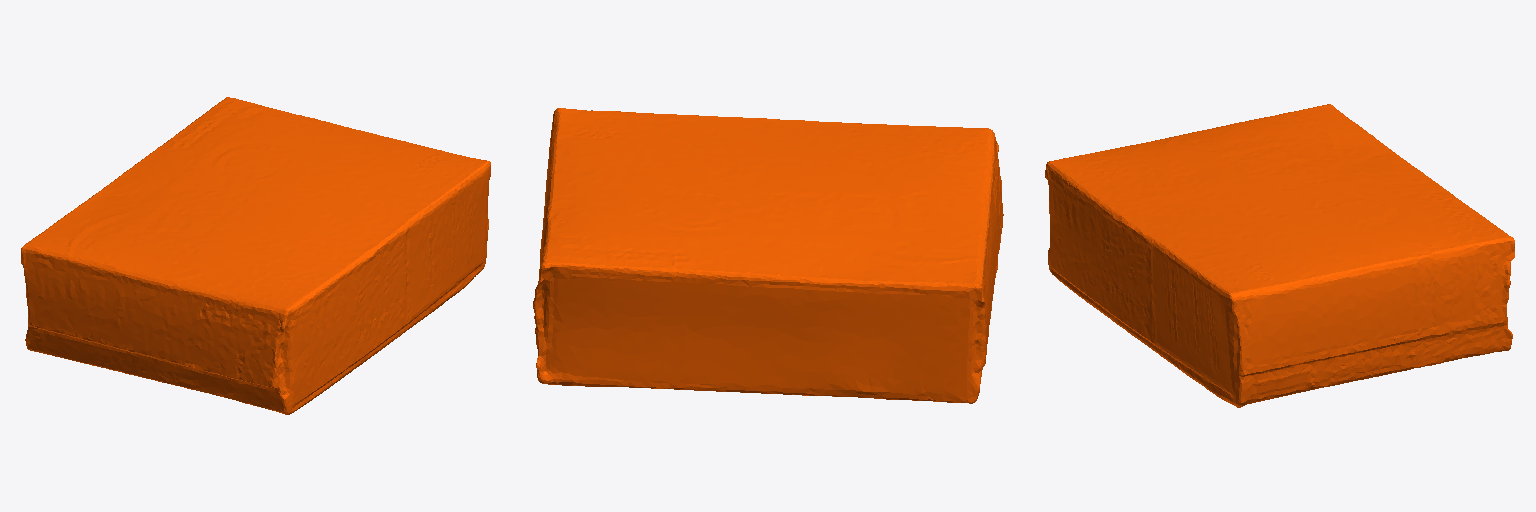
robot.urdf — 008_pudding_box:
<?xml version="1.0" ?>
<robot name="008_pudding_box">
   <material name="obj_color">
      <color rgba="1.0 0.423529411765 0.0392156862745 1.0"/>
   </material>
   <link name="top">
      <inertial>
         <origin rpy="0.000491266264657735 0.0007295371866042502 0.001080842248221257" xyz="-0.0007444994936001988 0.002330462255386087 -0.001432707984545171"/>
         <mass value="0.6698732861705451"/>
         <inertia ixx="0.00054350218992531" ixy="-9.829308993354792e-05" ixz="-1.302373440629792e-05" iyy="0.0006776248139939704" iyz="-4.125902254809813e-06" izz="0.001080518695563961"/>
      </inertial>
      <visual>
         <origin rpy="0 0 0" xyz="0 0 0"/>
         <geometry>
            <mesh filename="top_watertight_tiny.stl" scale="1 1 1"/>
         </geometry>
         <material name="obj_color"/>
      </visual>
      <collision>
         <origin rpy="0 0 0" xyz="0 0 0"/>
         <geometry>
            <mesh filename="top_watertight_tiny.obj" scale="1 1 1"/>
         </geometry>
      </collision>
   </link>
   <link name="bottom">
      <inertial>
         <origin rpy="1.633333333199431e-08 1.633333333199431e-08 1.633333333362855e-08" xyz="0.3464080000000008 0.3464080000000008 0.3464080000000008"/>
         <mass value="0.0009800000000000017"/>
         <inertia ixx="1.633333333253906e-08" ixy="5.447480642029219e-19" ixz="5.447480642029219e-19" iyy="1.633333333253906e-08" iyz="5.447480642029219e-19" izz="1.633333333253906e-08"/>
      </inertial>
      <visual>
         <origin rpy="0 0 0" xyz="0 0 0"/>
         <geometry>
            <mesh filename="bottom_watertight_tiny.stl" scale="1 1 1"/>
         </geometry>
         <material name="obj_color"/>
      </visual>
   </link>
   <joint name="rotation" type="revolute">
      <origin xyz="0 0 0"/>
      <axis xyz="0 0 -1"/>
      <parent link="bottom"/>
      <child link="top"/>
      <dynamics damping="1.0" friction="1.0"/>
      <limit effort="0.1" velocity="0.1" lower="0" upper="0.001"/>
   </joint>
</robot>

--- Render facts (derived) ---
The picture shows the robot from 3 angles, left to right: view 1: azimuth 30°, elevation 25°; view 2: azimuth 150°, elevation 25°; view 3: azimuth 270°, elevation 25°; orthographic projection.
Robot: 008_pudding_box — 2 links, 1 joints (1 revolute); root link bottom; default pose: every joint at zero.
Visible links, largest first — view 1: top; view 2: top; view 3: top.
Boxes of the visible links, x1,y1,x2,y2 form: top: [21, 97, 490, 414]; top: [533, 108, 1003, 403]; top: [1045, 104, 1514, 407].
Size in the robot's own frame: 0.1379 by 0.1288 by 0.0389 metres.
1 mesh visuals loaded from 2 distinct referenced files (1 binary STL); not drawn: 1 (reference not matched to a file when rendering).
